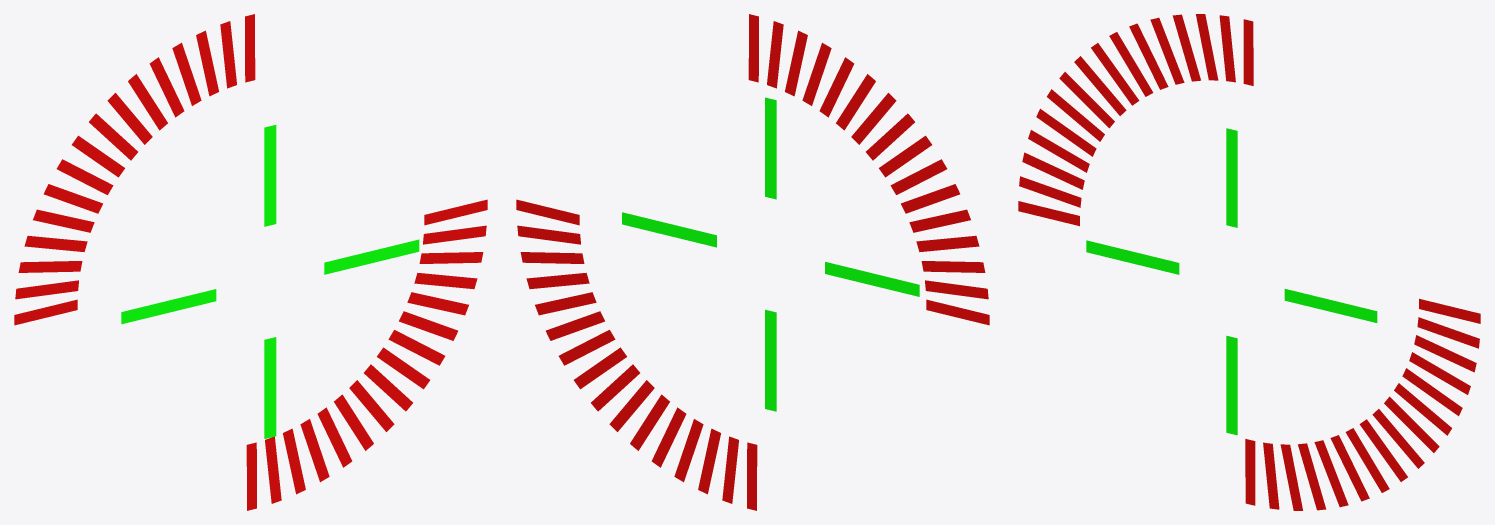
Rendered from target.glb.
3 views of the same model, side by side, from view 1: azimuth 30°, elevation 25°; view 2: azimuth 150°, elevation 25°; view 3: azimuth 330°, elevation 25° (orthographic). The views are drawn at different scales.
Visible parts, largest first — view 1: Yoyo05_baked003_28, CircleSpeed02_baked002_23; view 2: Yoyo05_baked003_28, CircleSpeed02_baked002_23; view 3: Yoyo05_baked003_28, CircleSpeed02_baked002_23.
Part boxes in pixels (bbox=[...]): Yoyo05_baked003_28: bbox=[14, 14, 487, 510]; CircleSpeed02_baked002_23: bbox=[121, 125, 419, 438]; Yoyo05_baked003_28: bbox=[516, 14, 989, 510]; CircleSpeed02_baked002_23: bbox=[622, 97, 919, 411]; Yoyo05_baked003_28: bbox=[1018, 14, 1480, 510]; CircleSpeed02_baked002_23: bbox=[1086, 128, 1377, 435].
Size of the model in its own units: 1.66 by 1.66 by 0.113.
